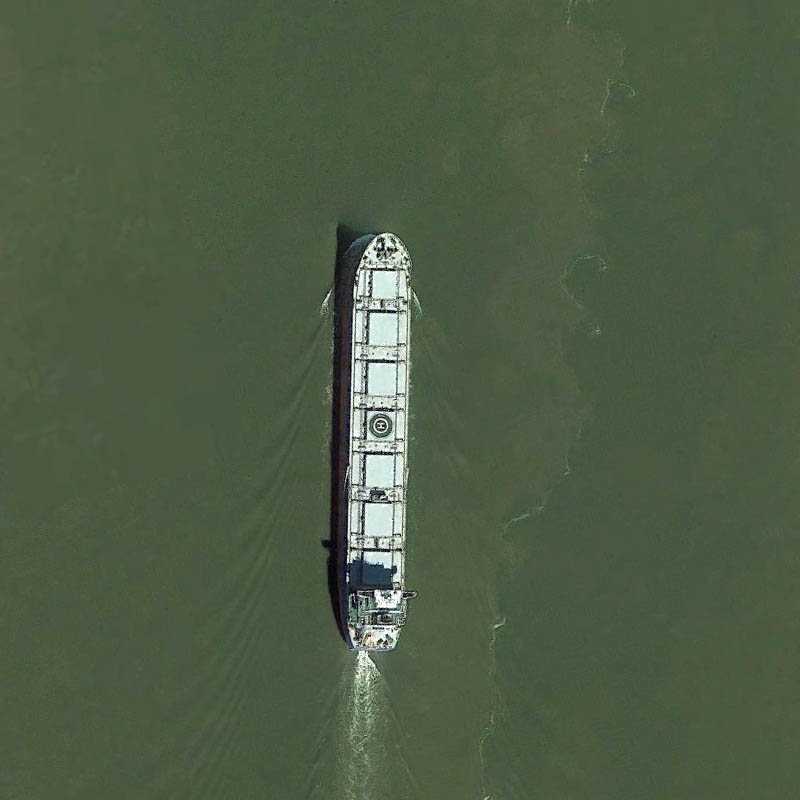ship: (344, 229, 415, 653)
